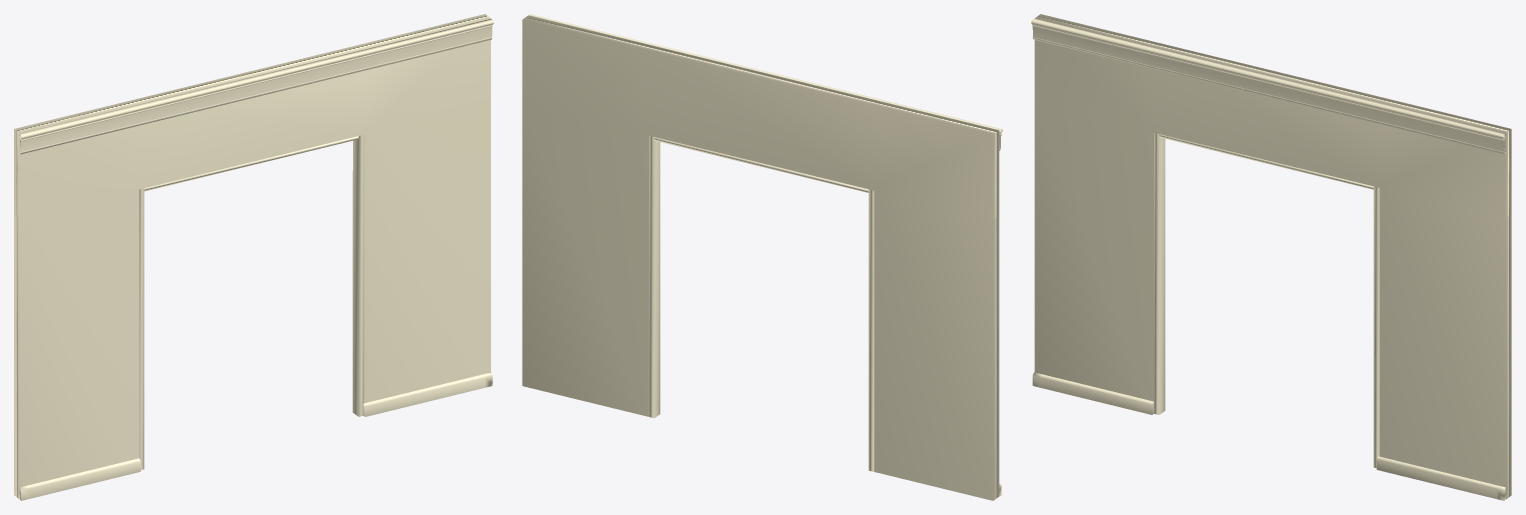
3 renders of one model, left to right at view 1: azimuth 30°, elevation 25°; view 2: azimuth 150°, elevation 25°; view 3: azimuth 330°, elevation 25°, orthographic.
Parts seen in each view (by area): view 1: ArtDecoLargeDoorway; view 2: ArtDecoLargeDoorway; view 3: ArtDecoLargeDoorway.
Boxes of the visible parts, left/top/right/bottom form: ArtDecoLargeDoorway: left=14, top=14, right=493, bottom=500; ArtDecoLargeDoorway: left=522, top=14, right=1002, bottom=500; ArtDecoLargeDoorway: left=1031, top=14, right=1511, bottom=500.
Size of what is drawn, in the model's own units: 3.84 by 2.85 by 0.1257.
1 material, 1 textured.
